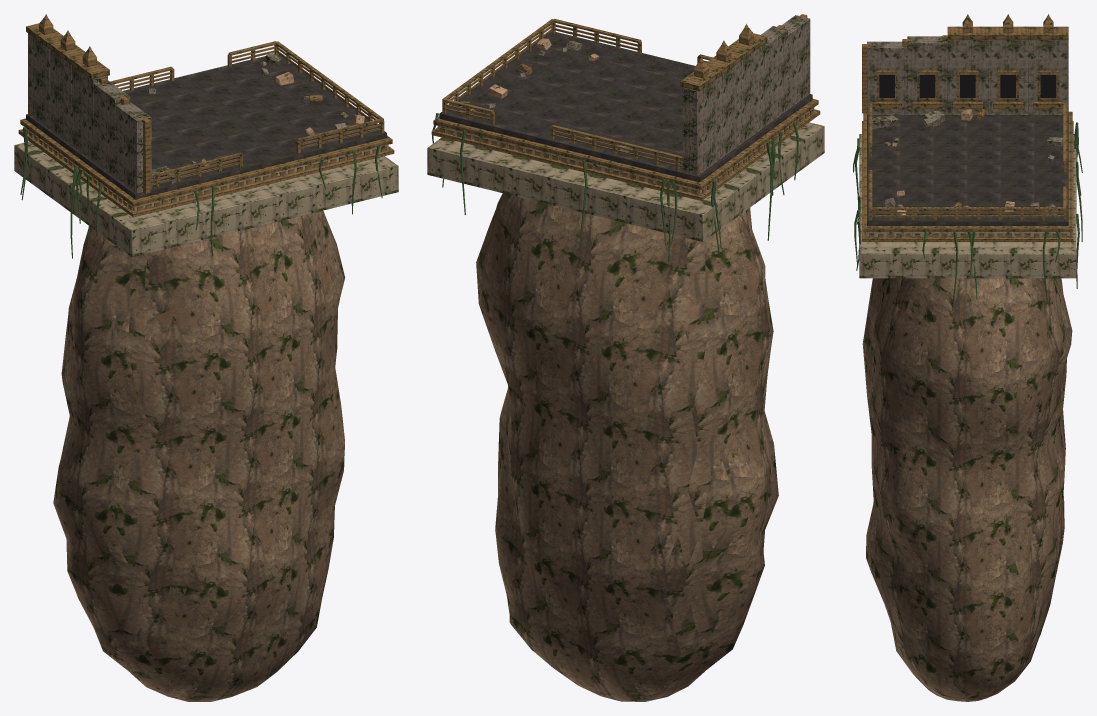
The model's file is Room_CombatB.fbx.
The picture shows the model from 3 angles, left to right: view 1: azimuth 30°, elevation 25°; view 2: azimuth 150°, elevation 25°; view 3: azimuth 270°, elevation 25°; orthographic projection. The views are drawn at different scales.
Parts seen in each view (by area): view 1: CombatB_Rock_LOD0, CombatB_Structure_LOD0; view 2: CombatB_Rock_LOD0, CombatB_Structure_LOD0; view 3: CombatB_Rock_LOD0, CombatB_Structure_LOD0.
Boxes of the visible parts, left/top/right/bottom form: CombatB_Rock_LOD0: left=53, top=210, right=345, bottom=701; CombatB_Structure_LOD0: left=14, top=14, right=398, bottom=258; CombatB_Rock_LOD0: left=476, top=193, right=778, bottom=701; CombatB_Structure_LOD0: left=427, top=14, right=824, bottom=262; CombatB_Rock_LOD0: left=862, top=278, right=1072, bottom=701; CombatB_Structure_LOD0: left=853, top=14, right=1082, bottom=311.
Size of what is drawn, in the model's own units: 26.58 by 61.64 by 20.52.
